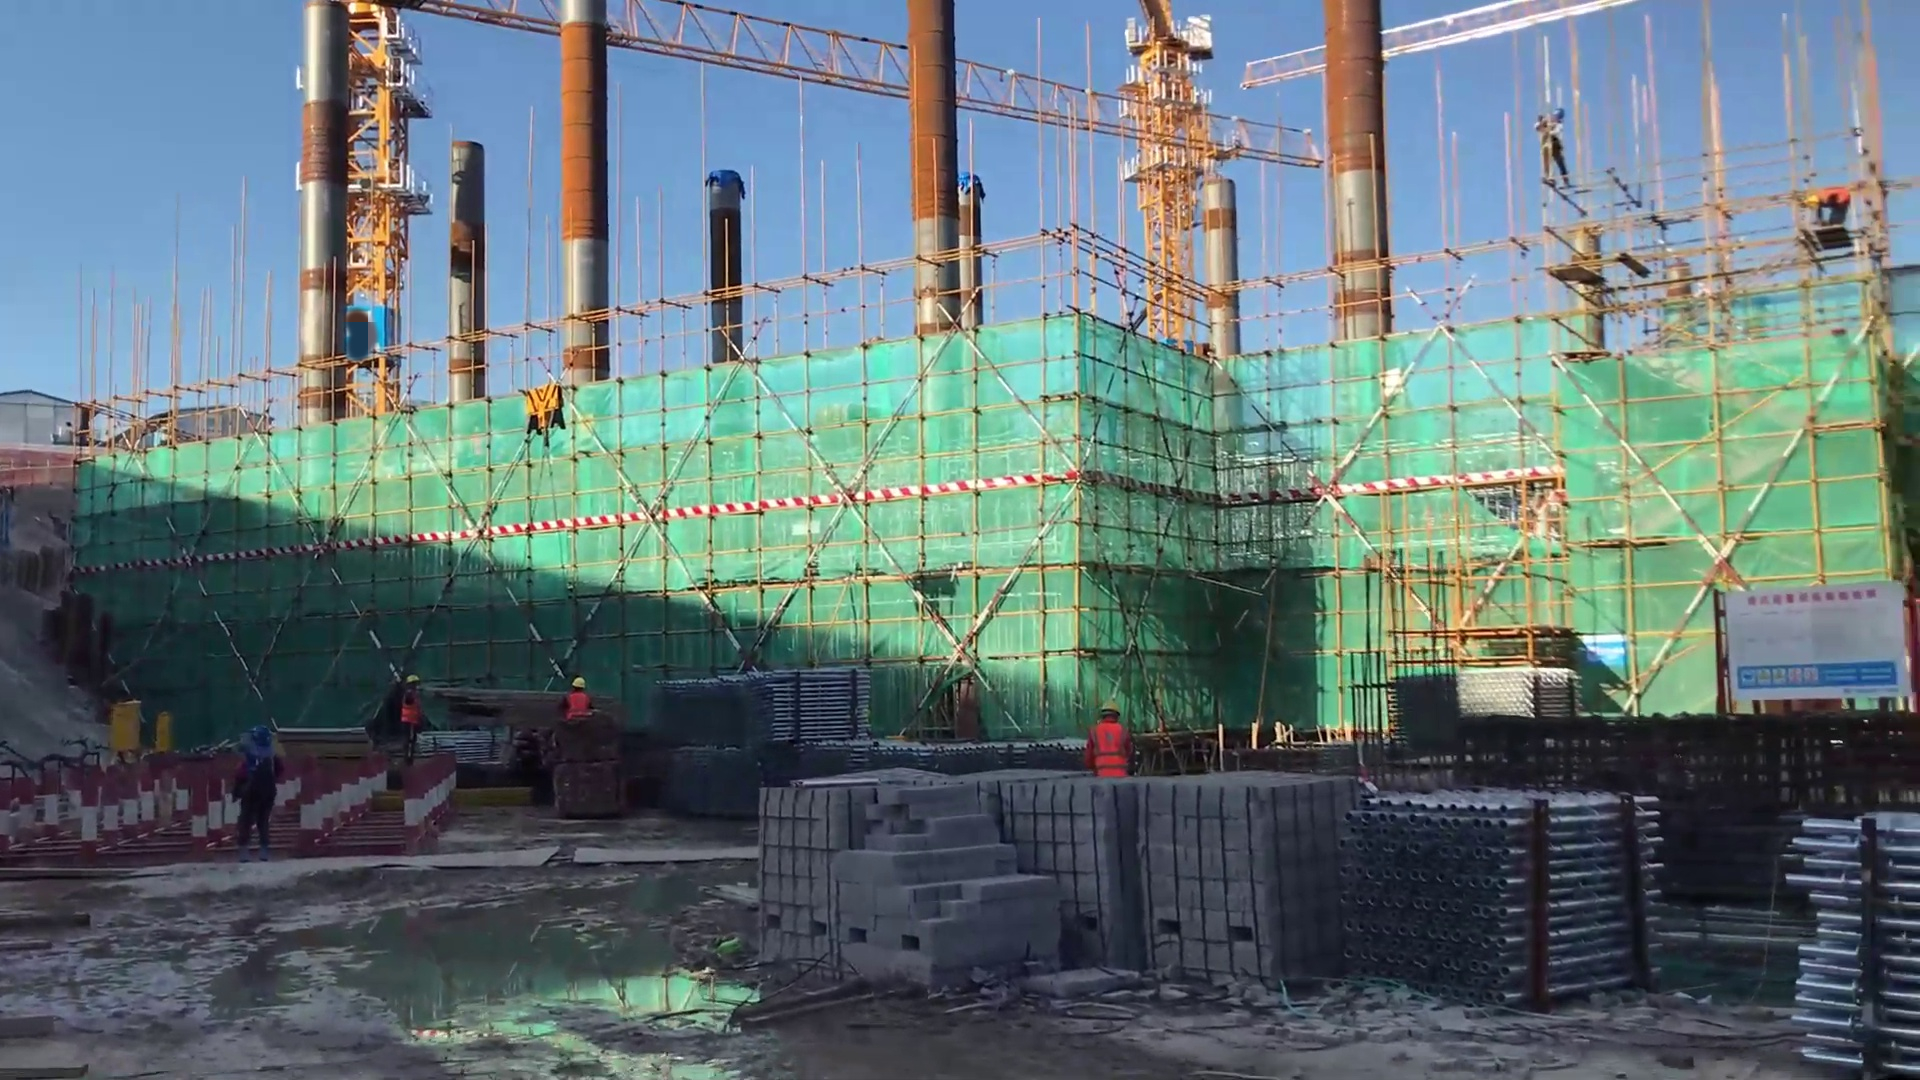brick: (749, 757, 1325, 996)
ebox: (107, 701, 140, 753), (154, 711, 174, 756)
helmet: (237, 727, 281, 768), (396, 674, 424, 697), (564, 676, 589, 696), (1097, 702, 1123, 718)
hook: (522, 367, 571, 435)
person: (224, 720, 277, 862), (388, 665, 423, 762), (1540, 94, 1573, 192), (1089, 701, 1128, 777), (1794, 184, 1856, 226), (559, 672, 593, 719)
scaffold: (1350, 778, 1665, 1020), (1771, 785, 1920, 1053), (742, 659, 868, 758), (1396, 659, 1578, 722), (651, 675, 742, 748)
slogan: (1738, 664, 1821, 688)
vest: (1090, 719, 1127, 777)
